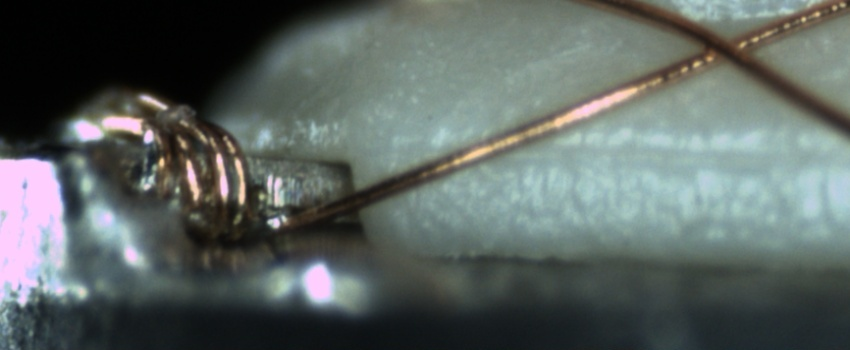CL: (674, 15, 771, 77)
DL: (390, 118, 850, 183)
TE: (68, 74, 267, 251)
